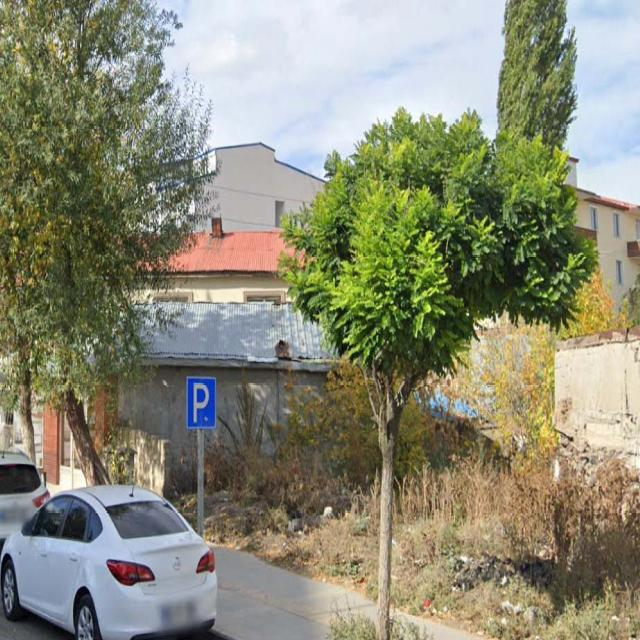park: (188, 378, 215, 428)
